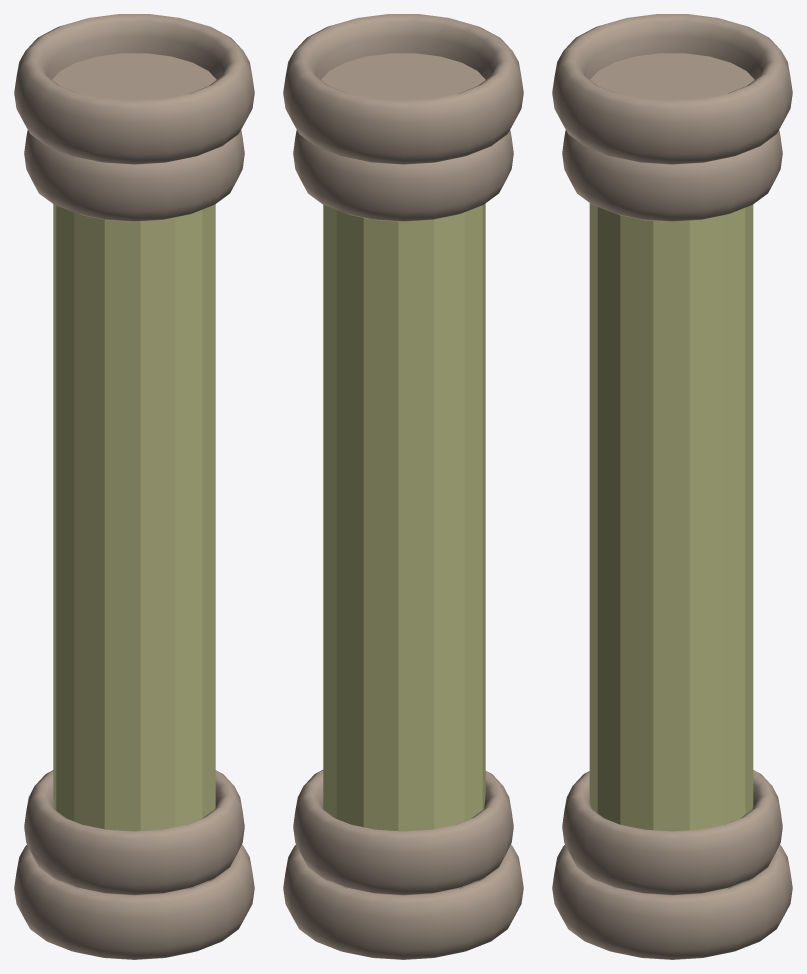
Rendered from Pilar.glb.
3 renders of one model, left to right at view 1: azimuth 30°, elevation 25°; view 2: azimuth 150°, elevation 25°; view 3: azimuth 270°, elevation 25°, orthographic.
Visible parts, largest first — view 1: Pilar; view 2: Pilar; view 3: Pilar.
Part boxes in pixels (bbox=[...]): Pilar: bbox=[14, 14, 254, 959]; Pilar: bbox=[283, 14, 523, 959]; Pilar: bbox=[552, 14, 792, 959].
Size of the model in its own units: 2.93 by 11.57 by 2.94.
